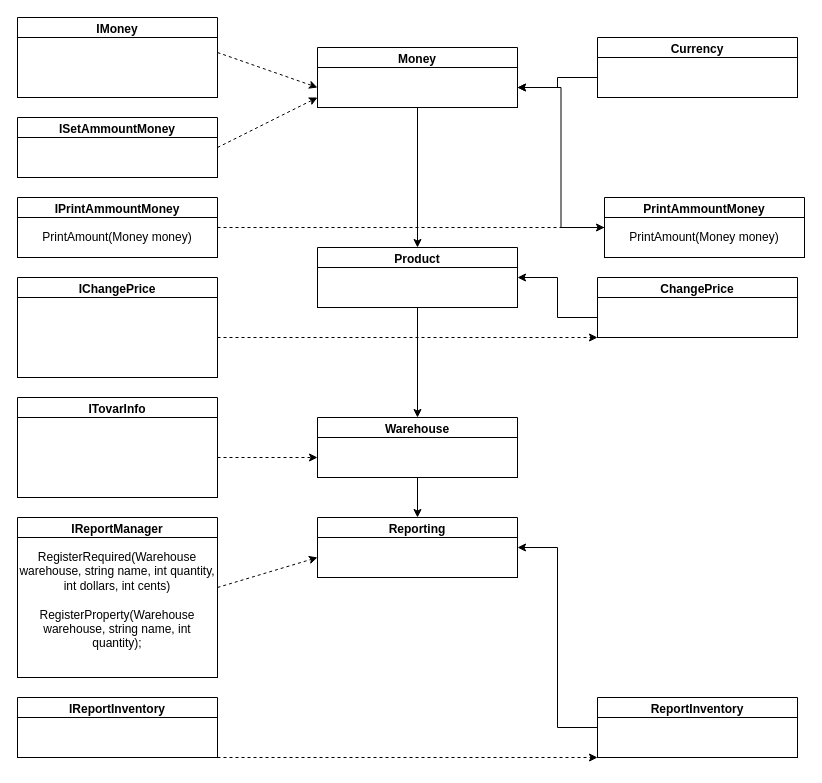
Image size: 822x783. Some labels were removed from this diagram. The shapes that lost their labels are listed below. From the top down, each one's centre as x and y in pixels, then its label:
At point (117, 67): "Whole: int Fractions: int Ammount: decimal".
At point (417, 87): "_printAmount : IPrintAmmountMoney".
At point (697, 77): "Symbol : string".
At point (117, 157): "SetAmount(int whole, int fractions)".
At point (417, 287): "Name : String _priceChanger : IChangePrice".
At point (117, 337): "DecreasePrice(Money price,int decreaseWhole, int decreaseFractions);".
At point (117, 457): "Product : Product Unit : string Quantity : int LastStockDate : DateTime".
At point (117, 737): "ReportInventory(List<Warehouse> warehouses);".
